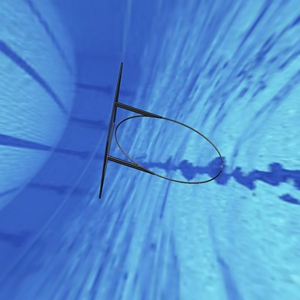circle: (97, 59, 225, 201)
